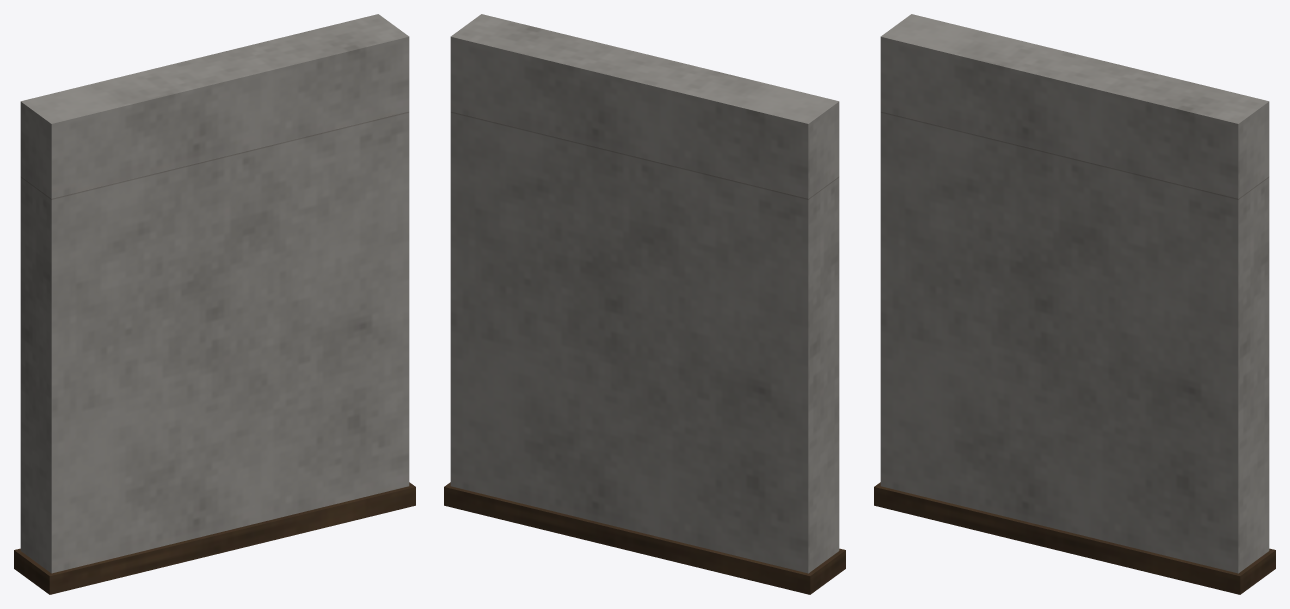
The model's file is SM_Wall.glb.
The picture shows the model from 3 angles, left to right: view 1: azimuth 30°, elevation 25°; view 2: azimuth 150°, elevation 25°; view 3: azimuth 330°, elevation 25°; orthographic projection.
Parts seen in each view (by area): view 1: SM_Wall; view 2: SM_Wall; view 3: SM_Wall.
Part boxes in pixels (<box>): SM_Wall: <box>14,14,415,594</box>; SM_Wall: <box>444,14,845,594</box>; SM_Wall: <box>874,14,1275,594</box>.
Bounding box in the file's own units: 2.05 × 2.5 × 0.346.
Materials: 1 (1 with a texture image).
